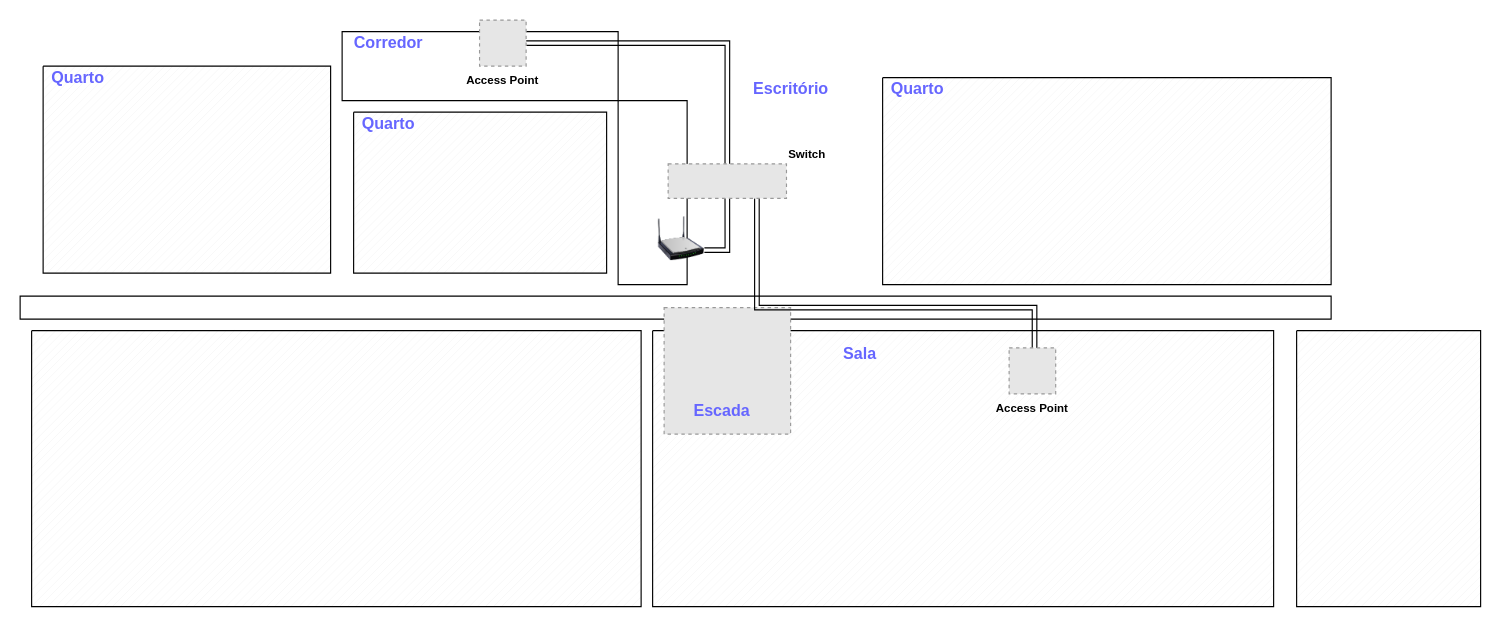
The diagram is 1501 pixels wide and 627 high, and some of its shapes have lost their labels. Grey dashed boxes stand in for pictures. Here are the shapes that lost their labels. From the top down, the centre of each, then its label:
At point (681, 238): "Roteador-Claro".
At point (335, 468): "Cozinha".
At point (1388, 468): "Varanda".
